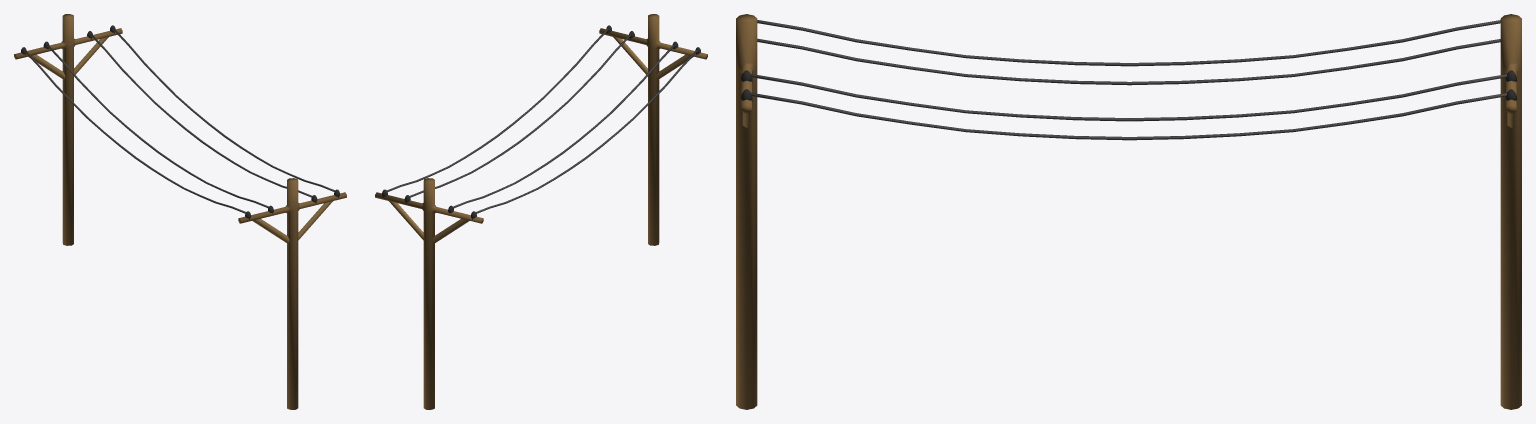
File: Poles.fbx
The picture shows the model from 3 angles, left to right: view 1: azimuth 30°, elevation 25°; view 2: azimuth 150°, elevation 25°; view 3: azimuth 270°, elevation 25°; orthographic projection. The views are drawn at different scales.
Parts seen in each view (by area): view 1: Cube.156, Cube.157; view 2: Cube.156, Cube.157; view 3: Cube.156, Cube.157.
Boxes of the visible parts, left/top/right/bottom form: Cube.156: left=24, top=28, right=346, bottom=409; Cube.157: left=14, top=14, right=122, bottom=245; Cube.156: left=386, top=14, right=707, bottom=245; Cube.157: left=375, top=178, right=483, bottom=409; Cube.156: left=736, top=14, right=1507, bottom=409; Cube.157: left=1500, top=14, right=1521, bottom=409.
Size of the model in its own units: 272 by 559 by 1028.
